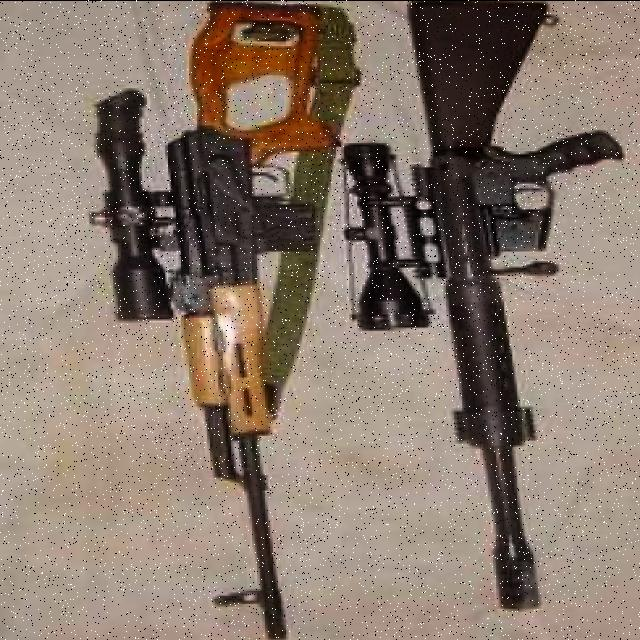Rifle: (347, 0, 626, 606), (89, 0, 338, 635)
